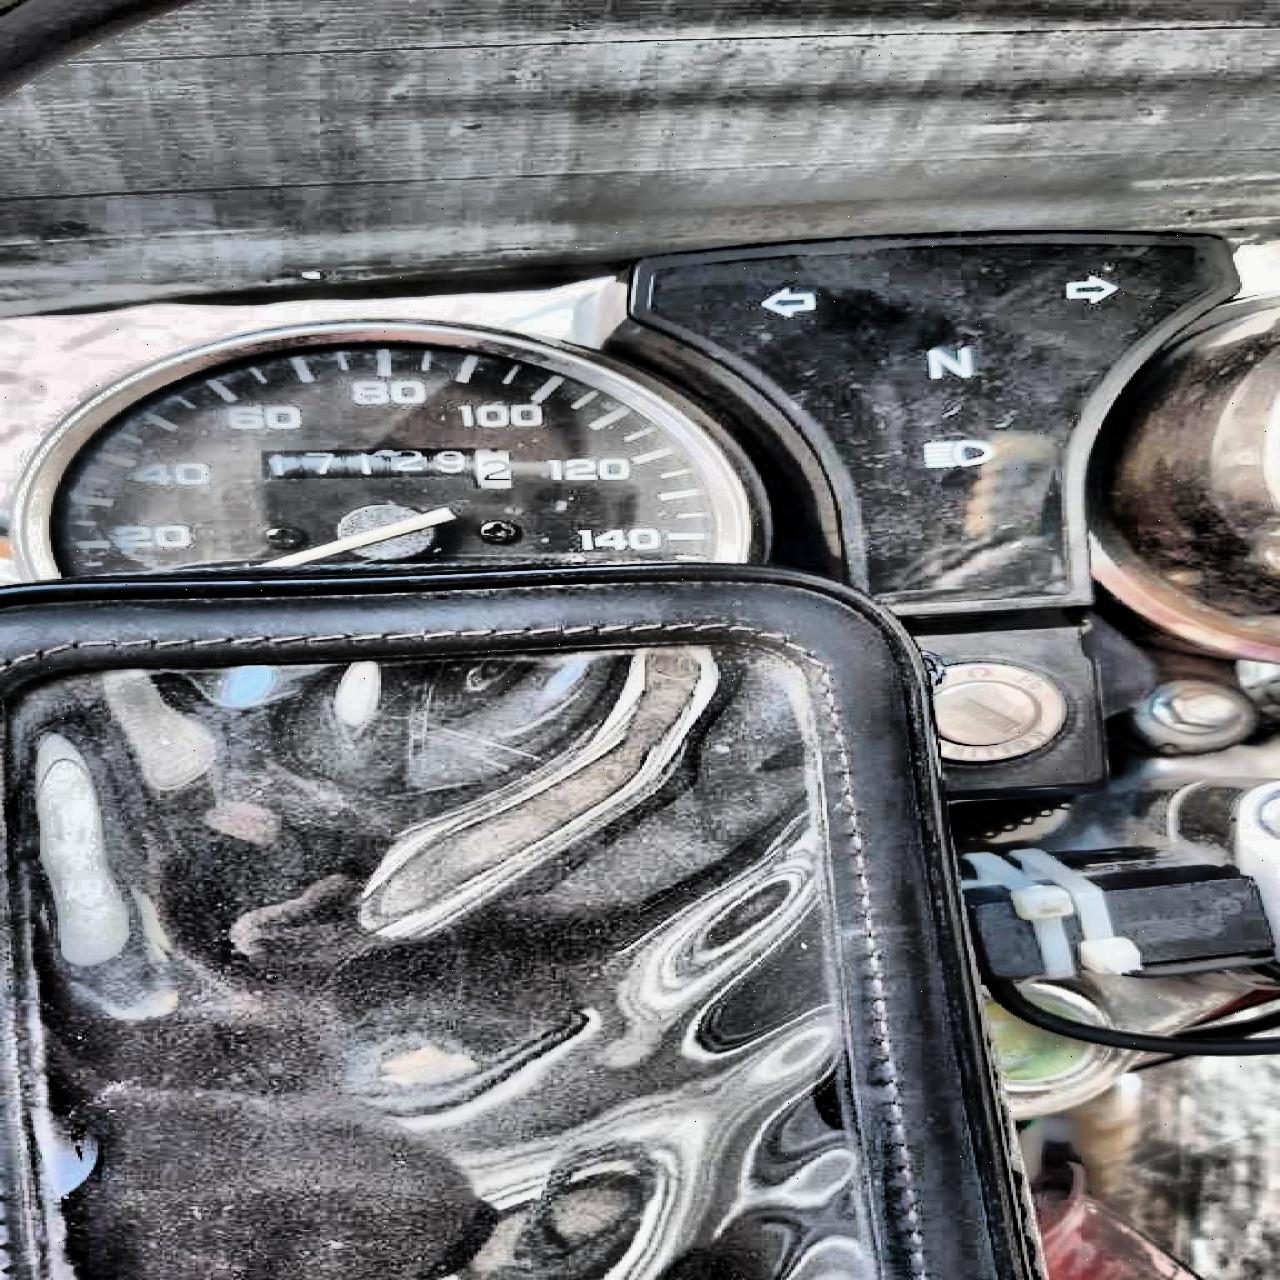1: (358, 451, 372, 474), (271, 452, 280, 475)
2: (478, 459, 509, 481), (392, 449, 420, 470)
7: (302, 451, 334, 472)
9: (434, 449, 463, 471)
odometer: (253, 447, 516, 489)
